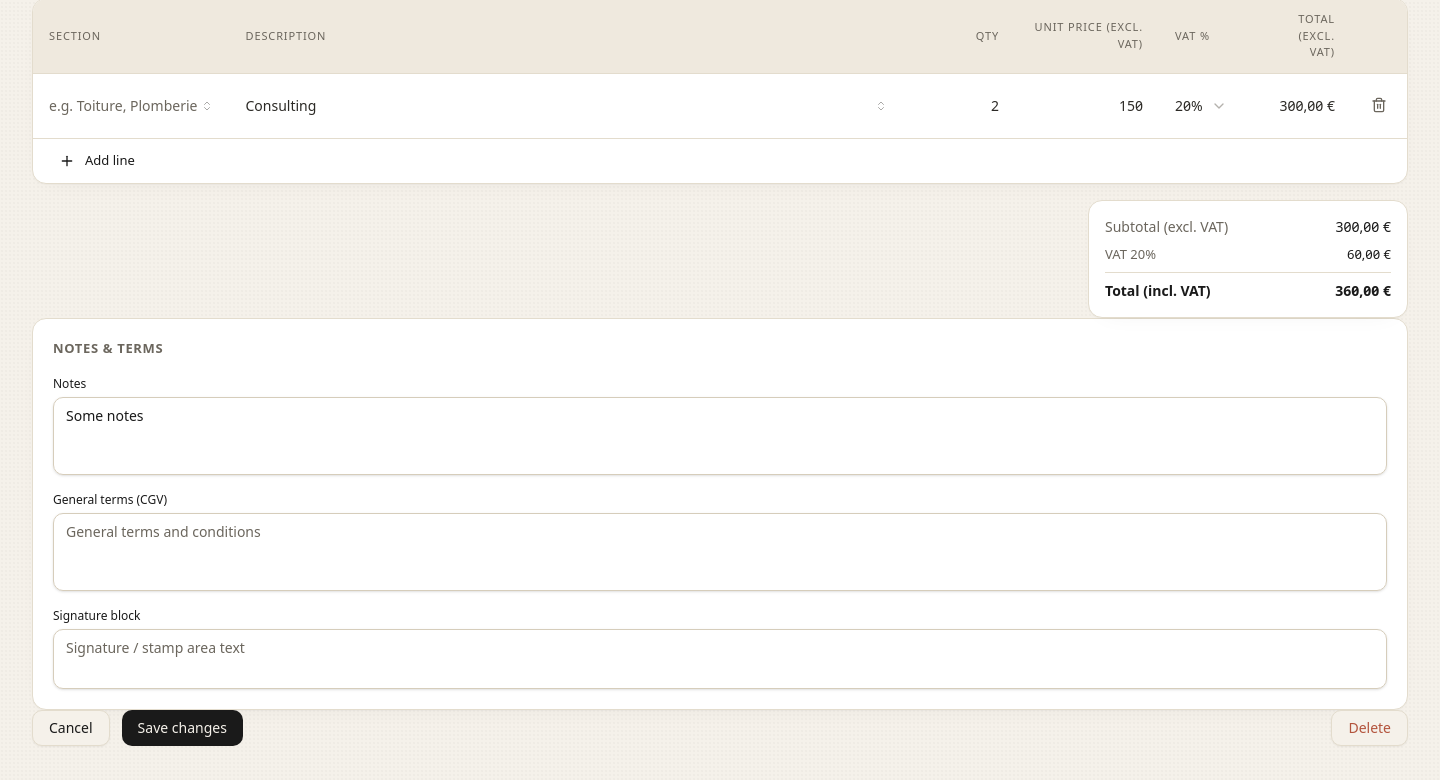
it: BillingDocumentForm — devis locked by its facture › shows the lock message, not a generic error, when the API refuses the save
The width and height of the screenshot is (1440, 780).
(page scrolled)
Click the button "Save changes" at (182, 728), box [122, 710, 243, 746]
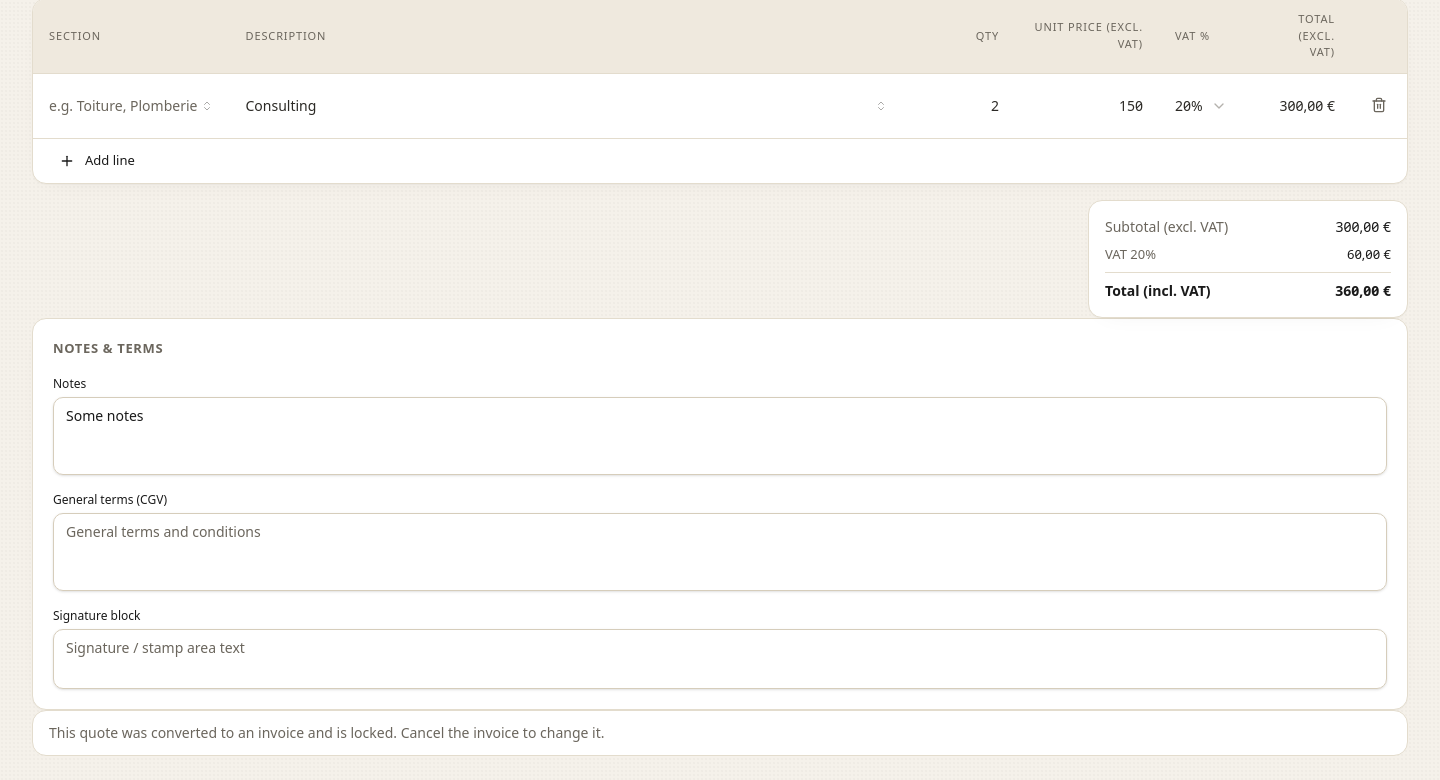
Expected: the text "This quote was converted to an invoice and is locked. Cancel the invoice to change it." is shown, [49, 722, 604, 742]
